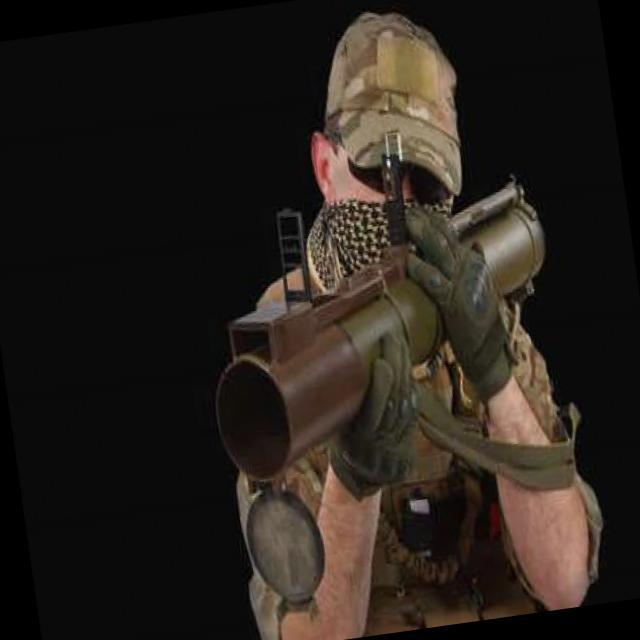rocket: (195, 177, 572, 493)
